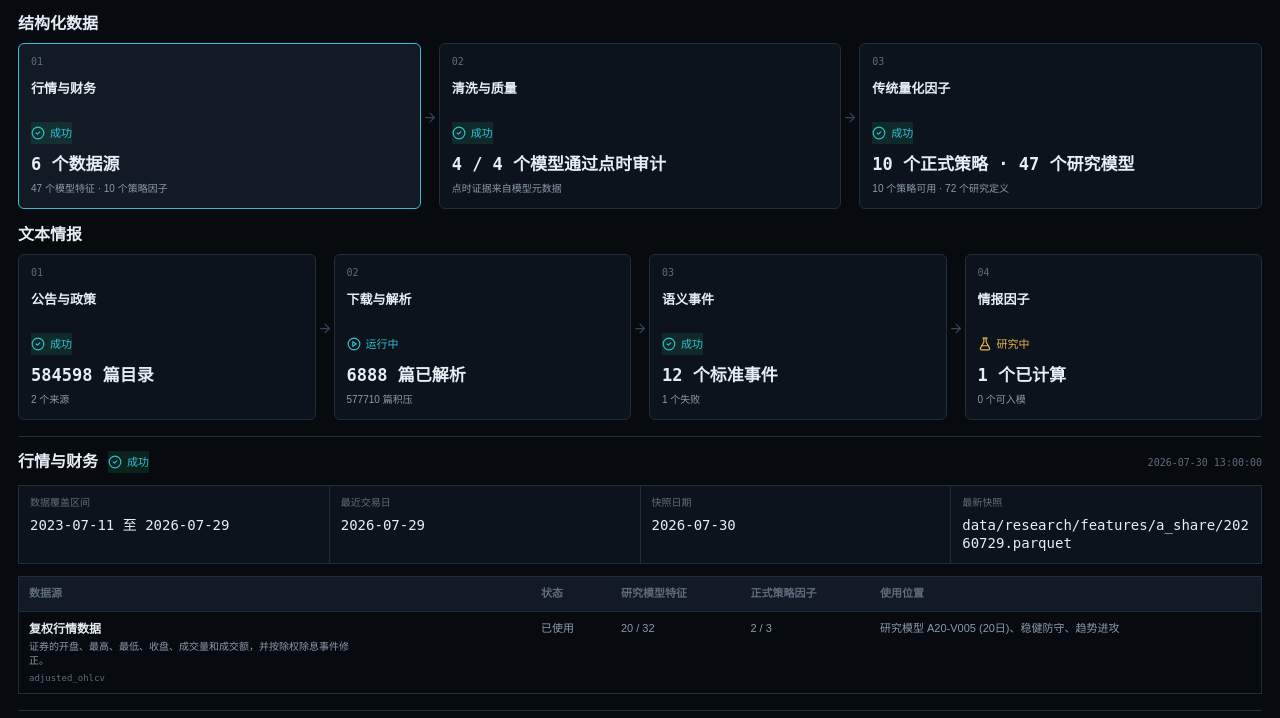
Test case: DataIntelligencePage › drills into actual node data and keeps formal factors separate from research features
Check: the heading "结构化数据" is shown, box [18,15,98,32]
Check: the heading "文本情报" is shown, box [18,226,82,243]
Click the button "01 行情与财务 成功 6 个数据源 47 个模型特征 · 10 个策略因子" at (64, 88), box [18,43,421,209]
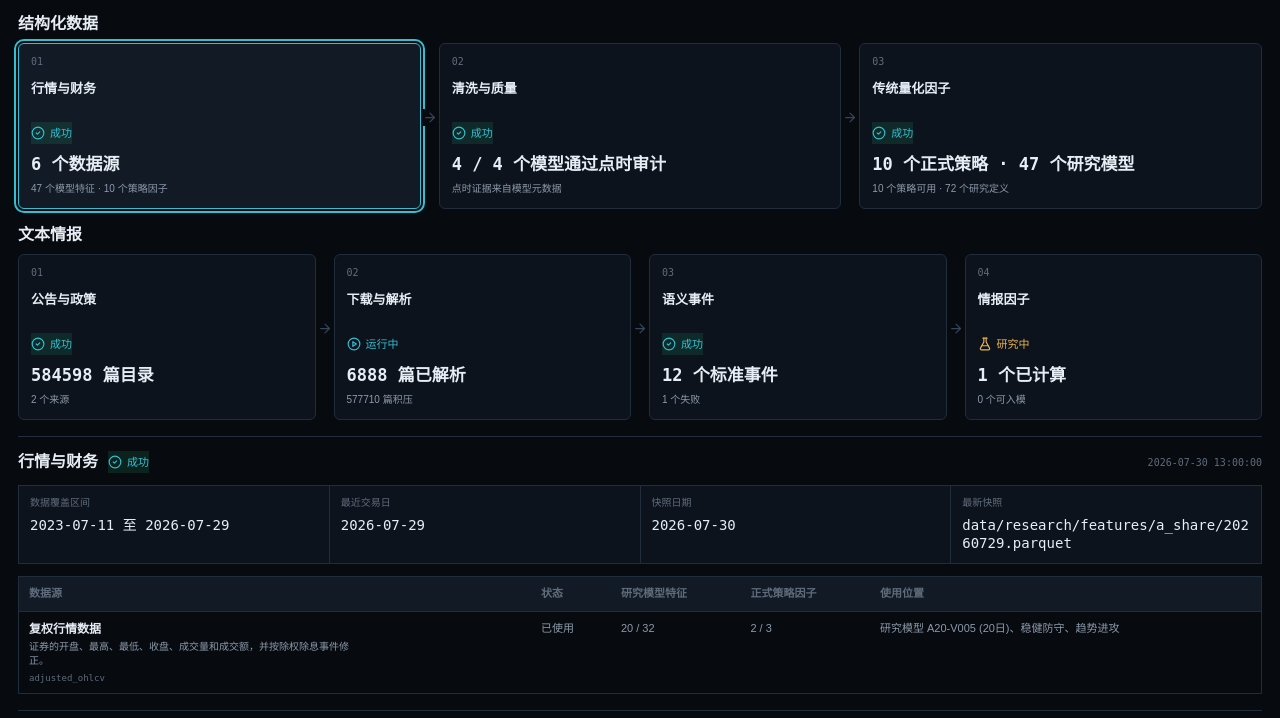
Check: the text "复权行情数据" is shown, box [29,622,101,636]
Check: the text "证券的开盘、最高、最低、收盘、成交量和成交额，并按除权除息事件修正。" is shown, box [29,640,349,669]
Click the button "03 传统量化因子 成功 10 个正式策略 · 47 个研究模型 10 个策略可用 · 72 个研究定义" at (911, 88), box [859,43,1262,209]
(page scrolled)
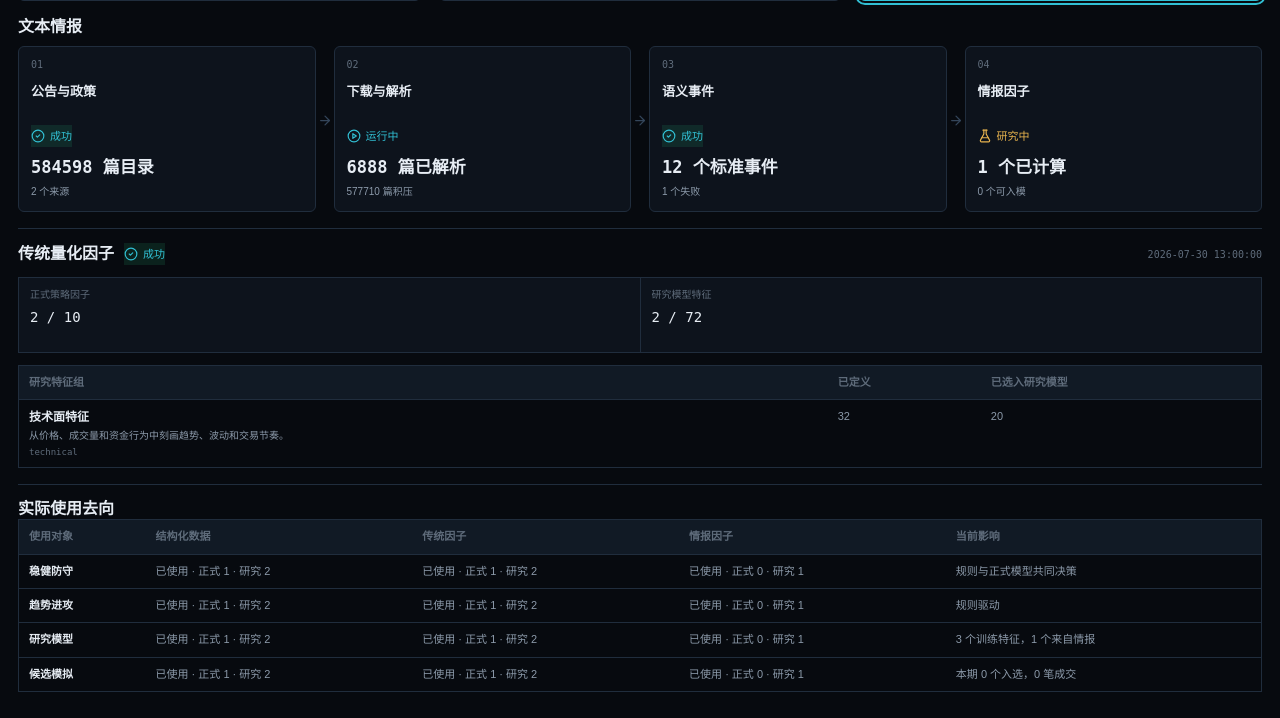
Check: the text "技术面特征" is shown, box [29,410,89,424]
Check: the text "2 / 10" is shown, box [30,308,81,324]
Check: the text "2 / 72" is shown, box [652,308,702,324]
